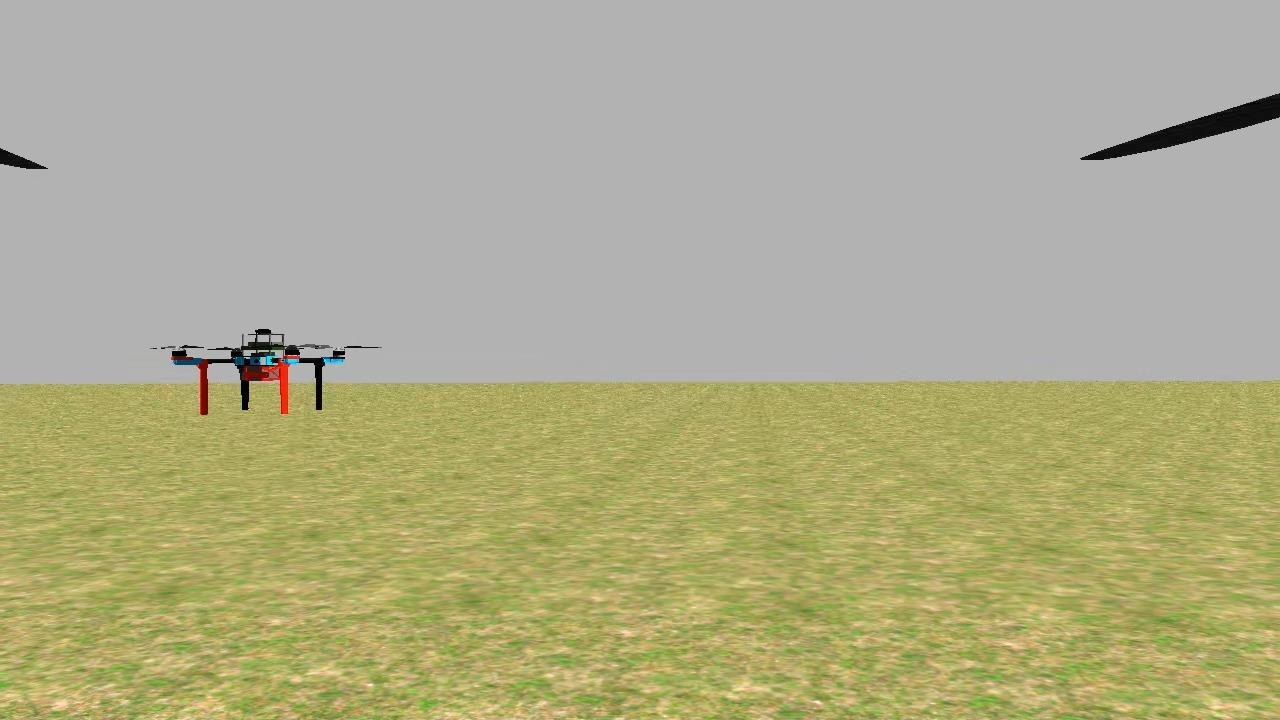UAV: (162, 312, 352, 427)
